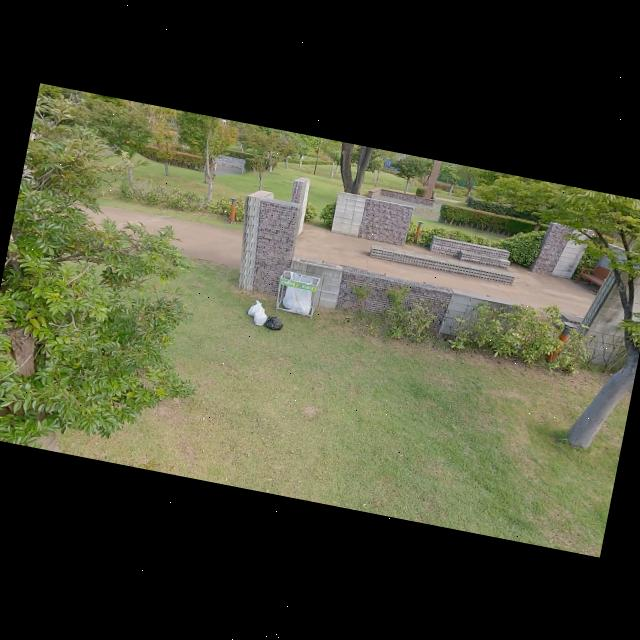trash: (264, 310, 284, 332), (251, 305, 270, 328), (246, 297, 266, 318)
